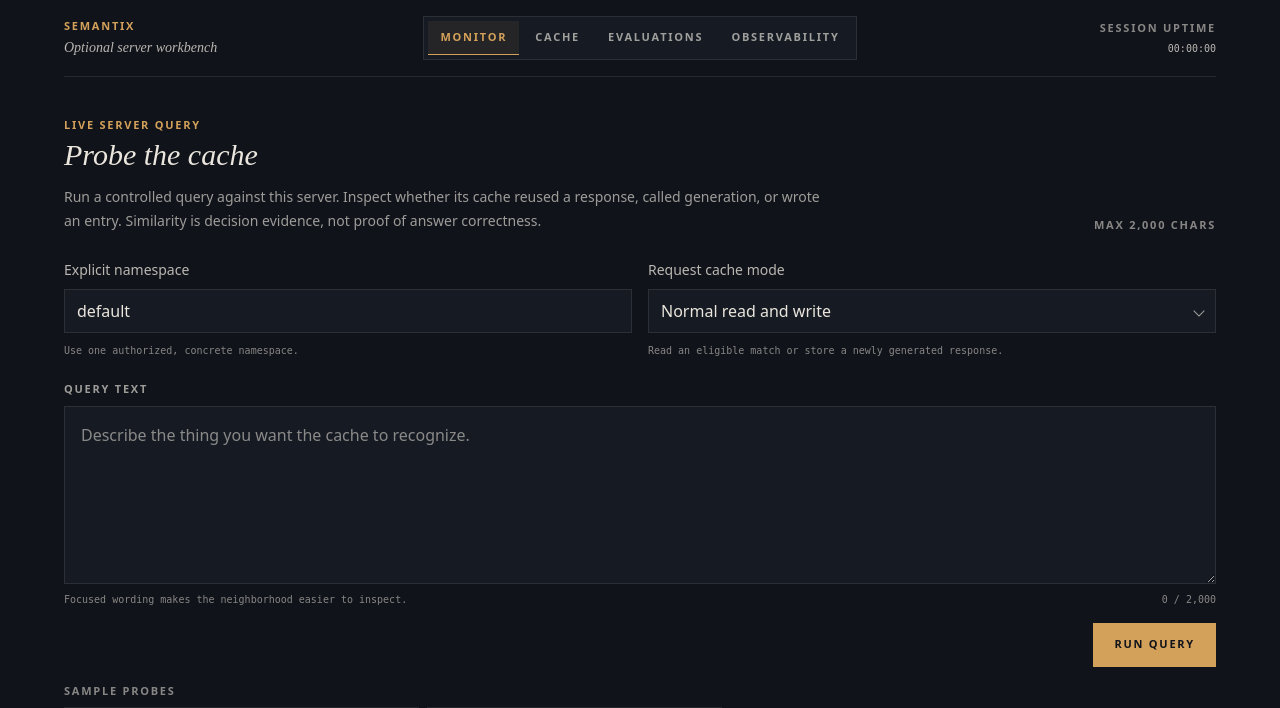
Scenario: dashboard correctness › preserves an API null similarity when adding an application trace
Type "First cache query" into the text box labelled "Query text" at (640, 494), box [64,406,1216,584]
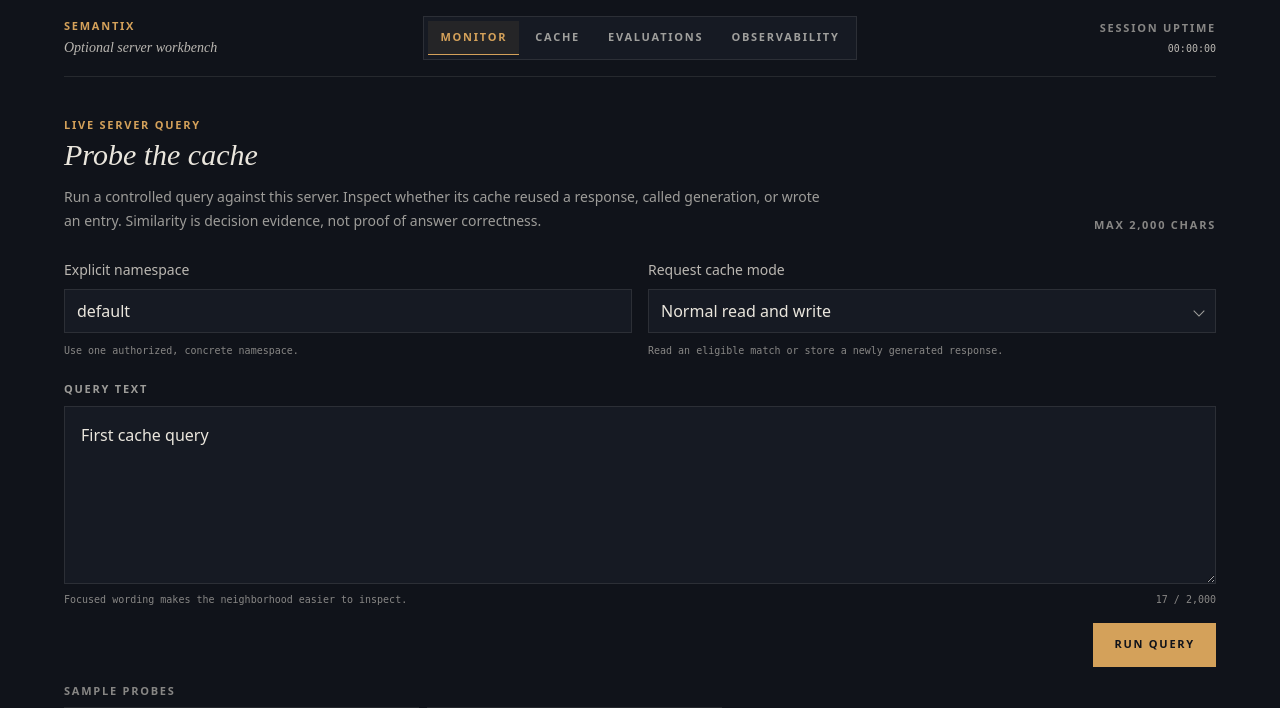
Click the button "Run query" at (1155, 644), box [1093,622,1216,666]
(page scrolled)
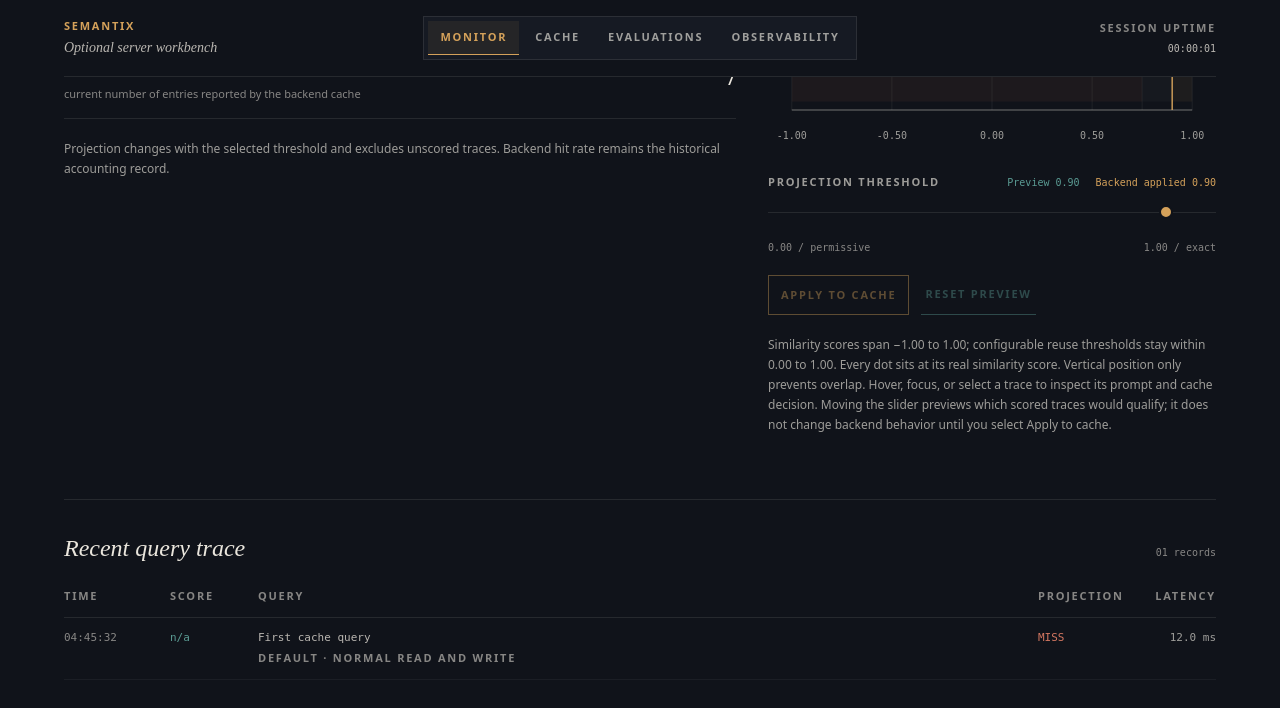
expect the text "MISS" is shown: met, box [1038,630,1064,644]
expect the text "default · Normal read and write" is shown: met, box [258,650,516,665]
